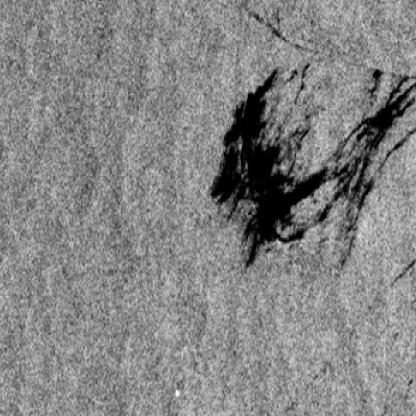oil: (214, 6, 415, 284)
